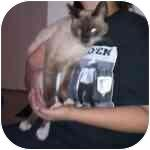siamese: (64, 1, 113, 51)
